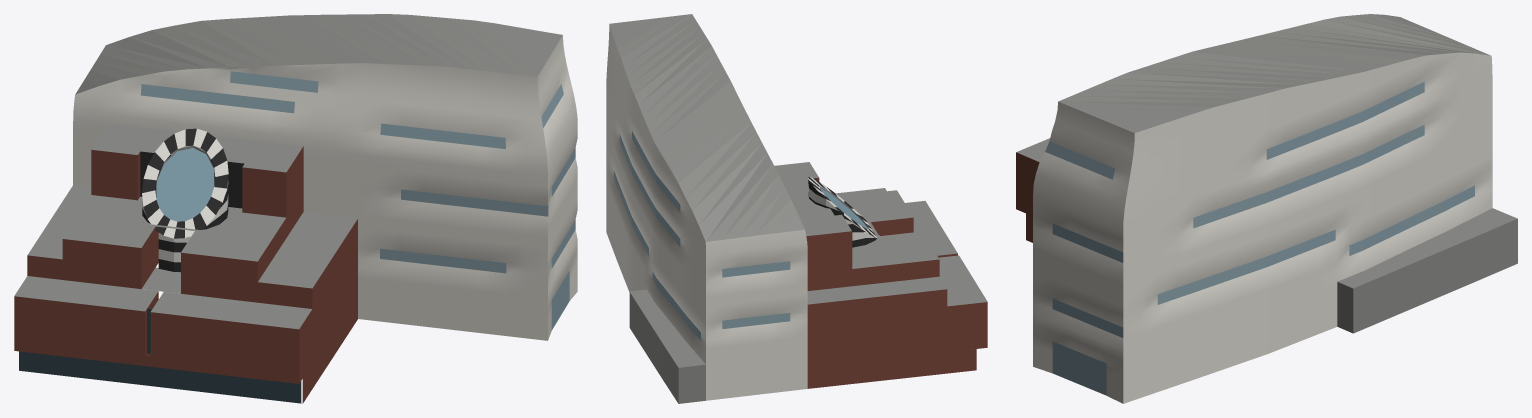
Rendered from sfmoma-far.glb.
3 views of the same model, side by side, from view 1: azimuth 30°, elevation 25°; view 2: azimuth 150°, elevation 25°; view 3: azimuth 270°, elevation 25° (orthographic). The views are drawn at different scales.
Visible parts, largest first — view 1: sfmoma-0-frp, sfmoma-0-concrete, sfmoma-0-brick, sfmoma-0-glass, sfmoma-0-glassDark, sfmoma-0-stoneBlack, sfmoma-0-glow, sfmoma-0-stoneWhite; view 2: sfmoma-0-concrete, sfmoma-0-frp, sfmoma-0-brick, sfmoma-0-glass, sfmoma-0-stoneBlack, sfmoma-0-stoneWhite, sfmoma-0-glow; view 3: sfmoma-0-frp, sfmoma-0-concrete, sfmoma-0-glass, sfmoma-0-brick.
Boxes of the visible parts, x1,y1,x2,y2 form: sfmoma-0-frp: (73, 35, 577, 340); sfmoma-0-concrete: (14, 14, 562, 329); sfmoma-0-brick: (14, 146, 357, 403); sfmoma-0-glass: (140, 71, 575, 330); sfmoma-0-glassDark: (19, 308, 301, 403); sfmoma-0-stoneBlack: (140, 128, 244, 272); sfmoma-0-glow: (156, 148, 214, 221); sfmoma-0-stoneWhite: (142, 129, 228, 262); sfmoma-0-concrete: (609, 14, 987, 403); sfmoma-0-frp: (606, 24, 807, 400); sfmoma-0-brick: (806, 177, 987, 388); sfmoma-0-glass: (614, 131, 790, 340); sfmoma-0-stoneBlack: (808, 177, 878, 247); sfmoma-0-stoneWhite: (808, 177, 879, 240); sfmoma-0-glow: (820, 188, 868, 228); sfmoma-0-frp: (1033, 52, 1492, 403); sfmoma-0-concrete: (1016, 14, 1517, 333); sfmoma-0-glass: (1045, 81, 1474, 395); sfmoma-0-brick: (1016, 152, 1039, 242).
Bounding box in the file's own units: 130 × 62 × 106.
